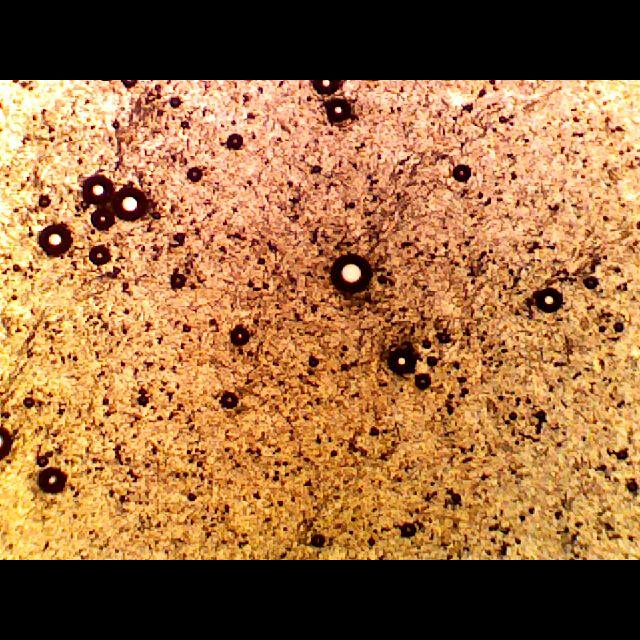microbeads: (324, 257, 380, 297), (112, 184, 150, 223), (38, 223, 76, 259), (80, 176, 116, 208), (531, 286, 565, 318), (386, 344, 418, 374)
